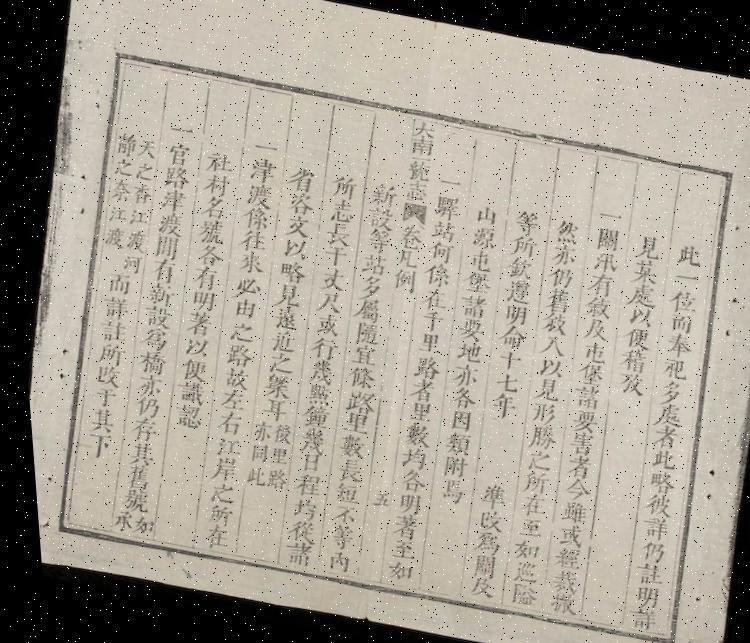c: (469, 478, 504, 510), (243, 153, 278, 184), (164, 400, 200, 430), (668, 238, 704, 268), (190, 216, 226, 246), (610, 344, 646, 374), (452, 290, 488, 320), (629, 511, 666, 540), (178, 307, 212, 338), (240, 179, 274, 210), (519, 420, 554, 450), (623, 255, 658, 285), (113, 460, 148, 490), (75, 429, 110, 459), (538, 564, 573, 594), (129, 346, 165, 375), (110, 484, 146, 513), (634, 489, 670, 518), (292, 400, 328, 429), (661, 285, 697, 314), (564, 381, 600, 410), (619, 280, 656, 308), (323, 195, 356, 226), (481, 389, 514, 420), (290, 424, 324, 454), (506, 206, 540, 236), (266, 279, 300, 309), (150, 208, 184, 238), (80, 404, 114, 434), (200, 452, 234, 482), (380, 510, 414, 540), (326, 454, 360, 484), (394, 418, 428, 448), (184, 262, 218, 292), (656, 329, 691, 358), (608, 368, 643, 397), (254, 370, 289, 399), (121, 414, 156, 443), (94, 292, 130, 320), (135, 302, 171, 330), (190, 520, 226, 548), (623, 558, 659, 586), (138, 279, 174, 307), (496, 580, 532, 608), (636, 466, 672, 494), (628, 229, 660, 260), (548, 214, 580, 245), (364, 178, 397, 208), (317, 520, 350, 550), (588, 222, 621, 252), (325, 170, 358, 200), (427, 191, 460, 221), (417, 259, 451, 288), (388, 465, 422, 494), (580, 269, 614, 298), (339, 361, 373, 390), (273, 538, 308, 566), (336, 386, 371, 414), (85, 360, 120, 388), (225, 272, 260, 300), (490, 322, 525, 350), (90, 316, 126, 343), (88, 339, 124, 366), (332, 408, 368, 435), (282, 188, 314, 218), (538, 284, 570, 314), (144, 254, 176, 284), (556, 450, 588, 480), (283, 164, 315, 194), (207, 407, 240, 436), (264, 303, 297, 332), (510, 489, 543, 518), (464, 222, 497, 251), (405, 352, 438, 381), (434, 427, 467, 456), (512, 466, 546, 494), (646, 400, 680, 428), (262, 326, 296, 354), (561, 406, 595, 434), (574, 314, 608, 342), (197, 478, 231, 506), (500, 556, 534, 584), (278, 515, 312, 543), (98, 268, 132, 296), (546, 520, 580, 548), (462, 526, 496, 554), (642, 422, 676, 450), (284, 469, 318, 497), (127, 370, 161, 398), (196, 169, 230, 197), (328, 430, 362, 458), (318, 220, 352, 248), (576, 292, 610, 320), (534, 308, 568, 336), (230, 247, 264, 275), (449, 314, 483, 342), (216, 340, 250, 368), (496, 276, 530, 304), (652, 354, 687, 381), (502, 231, 537, 258), (235, 204, 270, 231), (526, 373, 558, 402), (460, 550, 492, 579), (195, 192, 227, 221), (414, 284, 446, 313), (306, 310, 339, 338), (431, 451, 464, 479), (550, 497, 583, 525), (466, 505, 499, 533), (147, 232, 180, 260), (544, 240, 577, 268), (444, 360, 477, 388), (154, 185, 187, 213), (620, 581, 654, 608), (133, 324, 167, 351), (118, 438, 152, 465), (214, 363, 248, 390), (172, 355, 206, 382), (542, 543, 576, 570), (189, 241, 223, 268), (169, 378, 203, 405), (271, 257, 305, 284), (156, 162, 190, 189), (568, 360, 602, 387), (302, 334, 336, 361), (430, 474, 461, 503), (160, 138, 191, 167), (274, 234, 306, 262), (558, 428, 590, 456), (386, 488, 418, 516), (309, 288, 341, 316), (346, 318, 378, 346), (312, 264, 344, 292), (300, 356, 332, 384), (278, 212, 310, 240), (390, 443, 423, 470), (616, 323, 649, 350), (196, 499, 229, 526), (553, 474, 586, 501), (124, 393, 158, 419), (584, 248, 618, 274), (617, 604, 651, 630), (280, 494, 314, 520), (536, 589, 570, 615), (258, 349, 292, 375), (200, 148, 234, 174), (499, 254, 533, 280), (360, 204, 394, 230), (456, 268, 490, 294), (316, 241, 348, 268), (522, 398, 554, 425), (401, 375, 433, 402), (314, 546, 346, 573), (460, 246, 492, 273), (495, 300, 527, 327), (442, 384, 474, 411), (210, 385, 243, 411), (323, 478, 356, 504), (628, 536, 661, 562), (502, 535, 535, 561), (297, 380, 330, 406), (505, 514, 538, 540), (640, 444, 673, 470), (447, 338, 480, 364), (360, 226, 390, 254), (650, 376, 680, 404), (392, 222, 422, 250), (182, 286, 214, 312), (342, 341, 374, 367), (572, 338, 604, 364), (516, 446, 548, 472), (408, 328, 440, 354), (84, 383, 116, 409), (398, 397, 430, 423), (532, 331, 564, 357), (176, 333, 208, 359), (348, 296, 380, 322), (540, 264, 572, 290), (354, 250, 386, 276), (220, 318, 253, 343), (233, 227, 266, 252), (352, 272, 381, 300), (425, 216, 456, 242), (206, 432, 237, 458), (400, 156, 431, 182), (376, 557, 408, 582), (110, 130, 138, 158), (468, 202, 499, 227), (422, 238, 453, 263), (489, 347, 520, 372), (619, 304, 651, 328), (253, 396, 285, 420), (440, 406, 469, 432), (413, 306, 442, 332), (385, 266, 414, 292), (322, 500, 352, 525), (661, 310, 691, 335), (102, 506, 130, 532), (530, 354, 560, 378), (458, 574, 488, 598), (380, 536, 410, 560), (164, 118, 196, 140), (98, 222, 125, 248), (125, 180, 152, 206), (119, 226, 146, 252), (404, 134, 433, 158), (487, 369, 516, 393), (243, 416, 269, 442), (106, 176, 132, 202), (290, 449, 318, 473), (226, 296, 254, 320), (399, 178, 427, 202), (256, 465, 282, 490), (666, 266, 698, 286), (591, 204, 623, 224), (263, 420, 288, 445), (108, 154, 134, 178), (407, 118, 436, 139), (236, 462, 261, 486), (115, 250, 140, 274), (132, 134, 157, 158), (248, 136, 278, 156), (240, 440, 264, 464), (123, 204, 147, 227), (130, 158, 154, 181), (433, 173, 462, 192), (391, 246, 416, 268), (261, 443, 284, 466), (123, 512, 147, 534), (104, 202, 127, 223), (363, 487, 385, 508)
